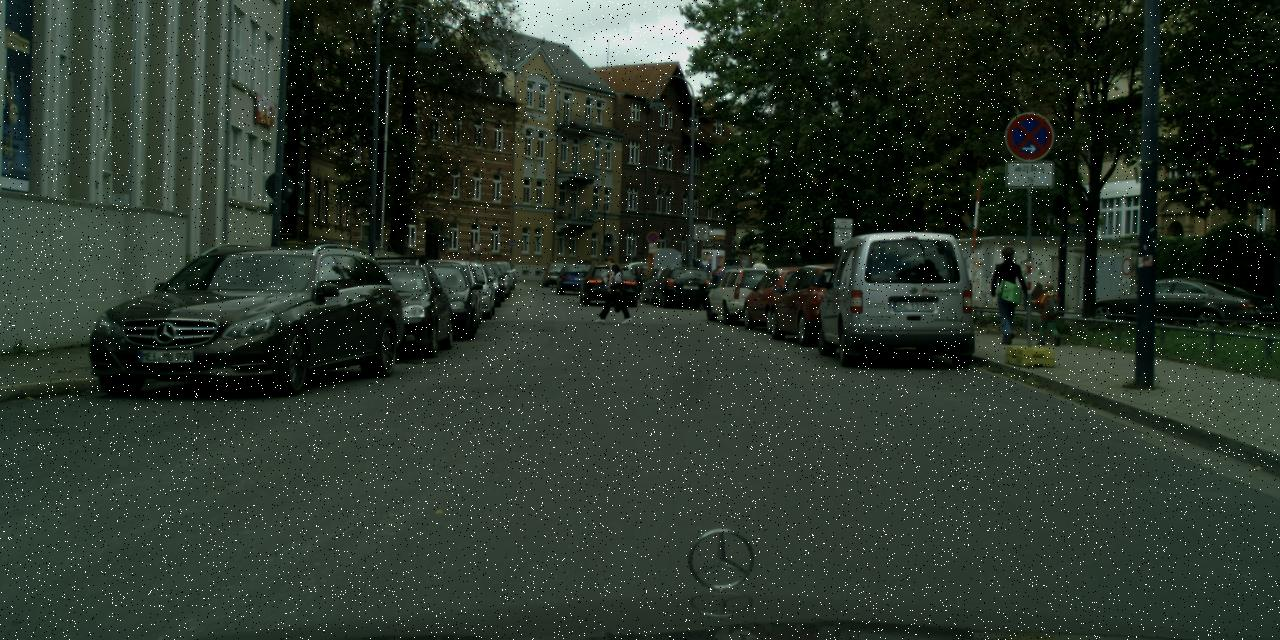ped: (987, 247, 1027, 344), (597, 257, 623, 322), (1036, 281, 1062, 345), (751, 257, 768, 301), (696, 253, 713, 296)
